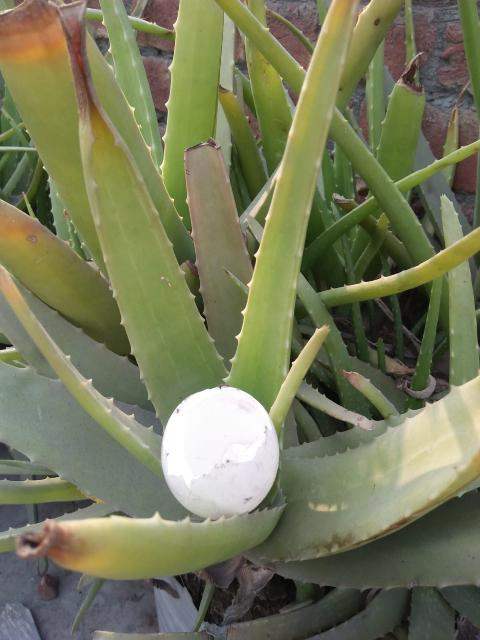Roto: (160, 384, 280, 520)
